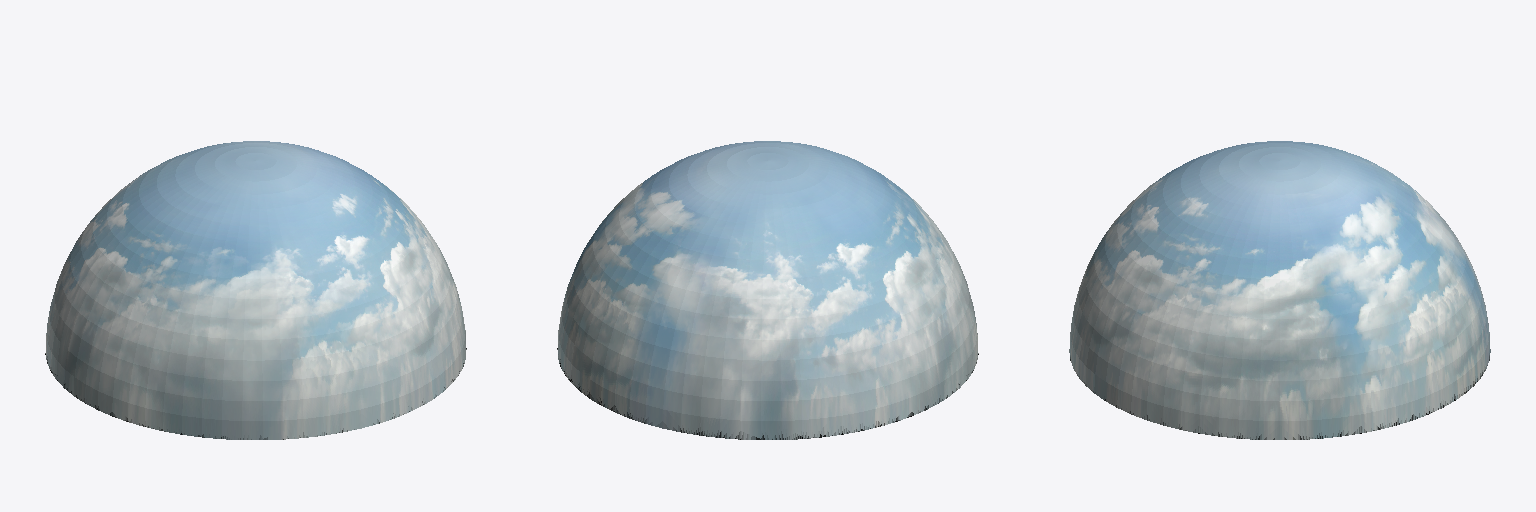
The picture shows the model from 3 angles: view 1: azimuth 30°, elevation 25°; view 2: azimuth 150°, elevation 25°; view 3: azimuth 270°, elevation 25°; orthographic projection.
Parts seen in each view (by area): view 1: skydome; view 2: skydome; view 3: skydome.
Part boxes in pixels (x1,y1,x2,y2): skydome: (45,141,466,439); skydome: (557,141,978,439); skydome: (1069,141,1490,439).
Size of the model in its own units: 1 by 0.5 by 1.
Materials: 1 (1 with a texture image).